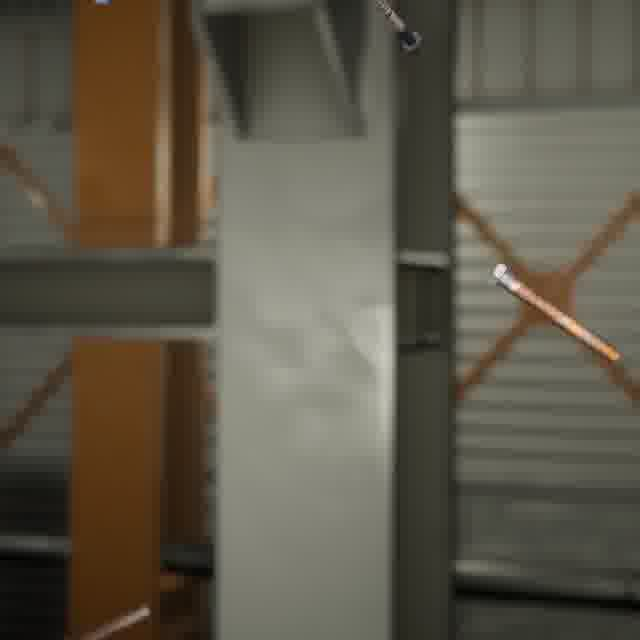bolt: (482, 255, 625, 367), (58, 599, 158, 640), (372, 0, 428, 58)
